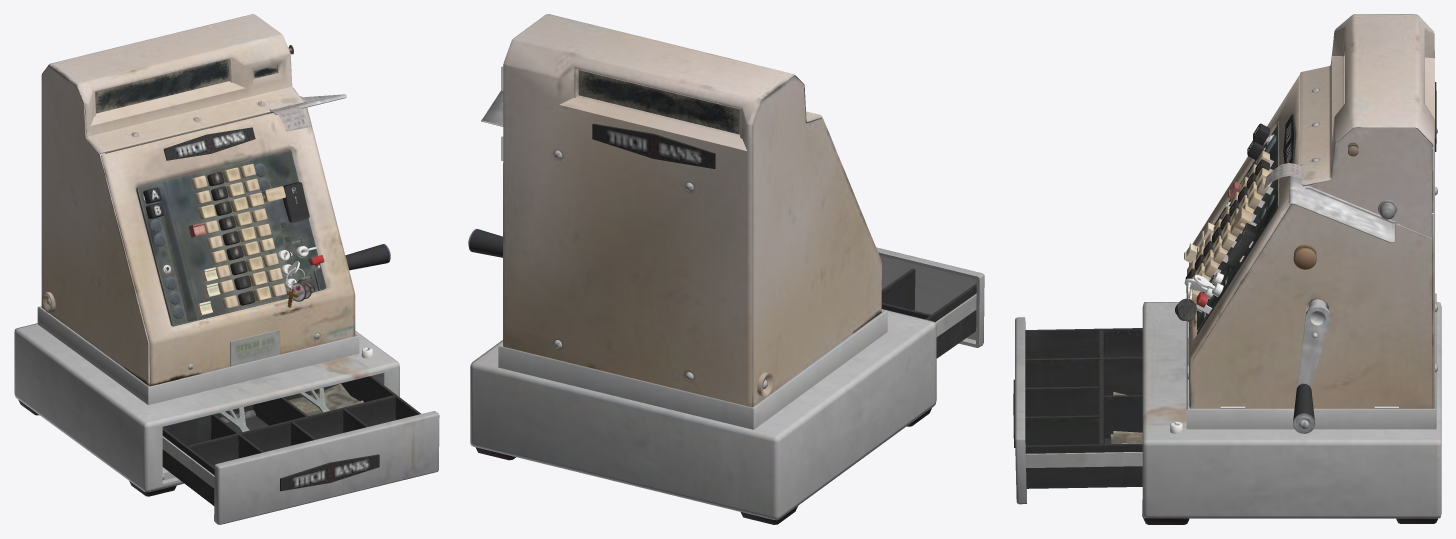
The model's file is CashRegister_01.glb.
3 views of the same model, side by side, from view 1: azimuth 30°, elevation 25°; view 2: azimuth 150°, elevation 25°; view 3: azimuth 270°, elevation 25° (orthographic). The views are drawn at different scales.
Visible parts, largest first — view 1: CashRegister_01_body, CashRegister_011_drawer; view 2: CashRegister_01_body, CashRegister_011_drawer; view 3: CashRegister_01_body, CashRegister_011_drawer.
Part boxes in pixels (x1,y1,x2,y2): CashRegister_01_body: [14, 14, 399, 496]; CashRegister_011_drawer: [162, 376, 439, 524]; CashRegister_01_body: [468, 14, 936, 524]; CashRegister_011_drawer: [876, 247, 984, 358]; CashRegister_01_body: [1142, 14, 1441, 524]; CashRegister_011_drawer: [1013, 317, 1142, 504].
Bounding box in the file's own units: 0.6005 × 0.6214 × 0.6242.
Materials: 2 (2 with a texture image).
